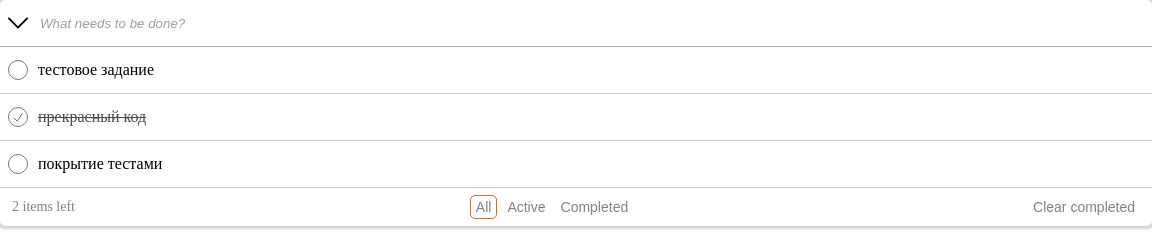
статус задания меняется. Отображается корректное кол-во активных заданий › Отображается правильное число активных заданий
Expected: the text with test id "tasks_count" shows "2", x1=12 y1=199 x2=19 y2=214
Click the button with test id "active_filter" at (526, 207), box x1=502 y1=196 x2=550 y2=218
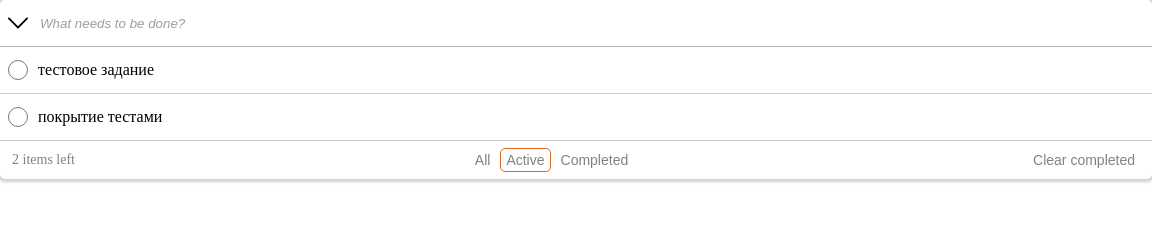
Expected: the text with test id "tasks_count" shows "2", x1=12 y1=152 x2=19 y2=167
Click the button with test id "completed_filter" at (594, 160), box x1=556 y1=149 x2=633 y2=171
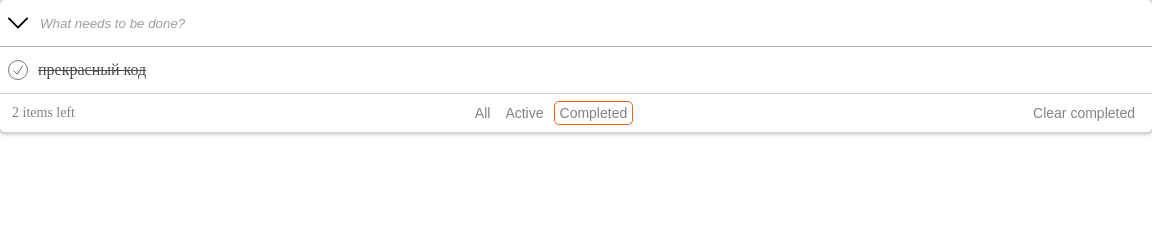
Expected: the text with test id "tasks_count" shows "2", x1=12 y1=105 x2=19 y2=120
Note: смена статуса с активно на выполнено
Click the button with test id "all_filter" at (483, 113), box x1=470 y1=102 x2=495 y2=124
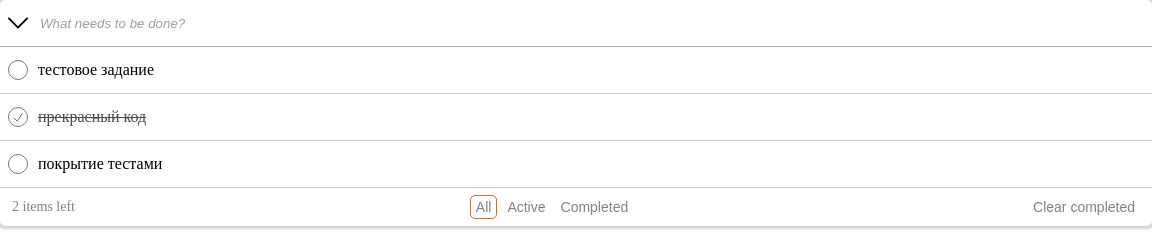
Click the text "покрытие тестами" at (100, 164), box x1=38 y1=156 x2=162 y2=172
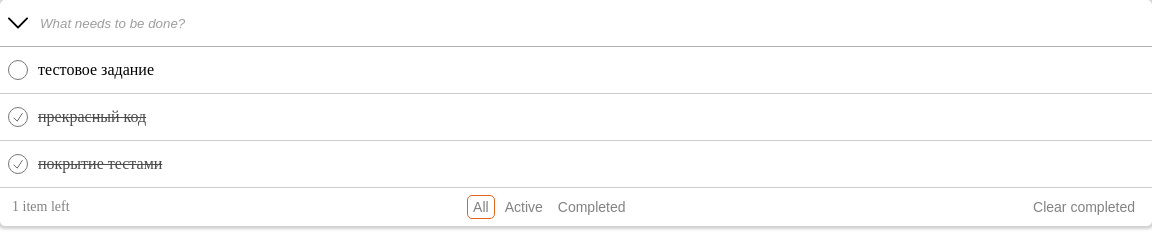
Now the text with test id "tasks_count" shows "1", box x1=12 y1=199 x2=19 y2=214
Click the text "покрытие тестами" at (100, 164), box x1=38 y1=156 x2=162 y2=172
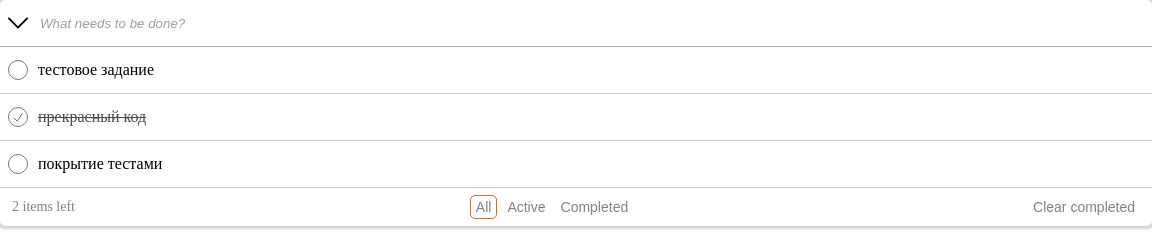
Click the text "прекрасный код" at (92, 117), box x1=38 y1=109 x2=146 y2=125
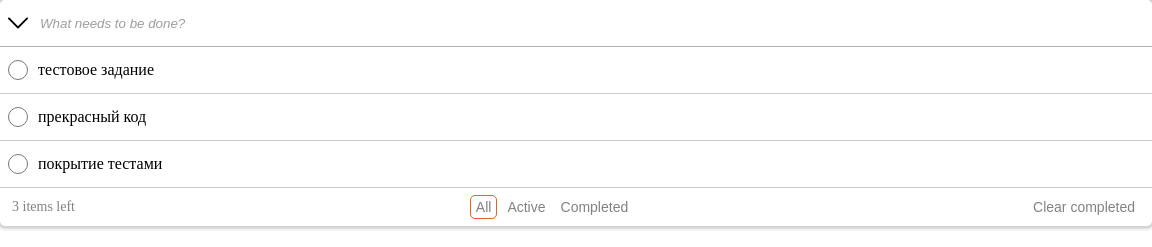
Now the text with test id "tasks_count" shows "3", box x1=12 y1=199 x2=19 y2=214
